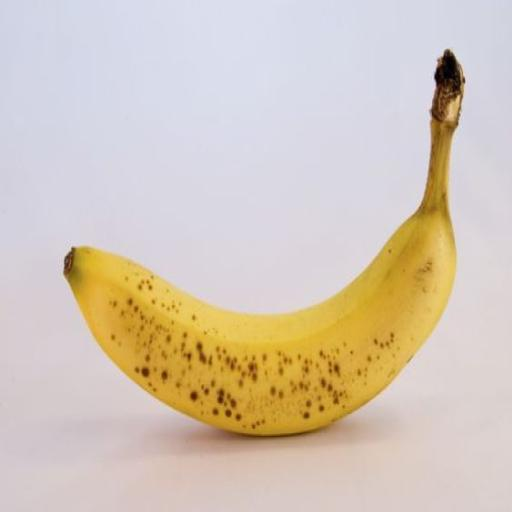banana: (65, 51, 463, 435)
